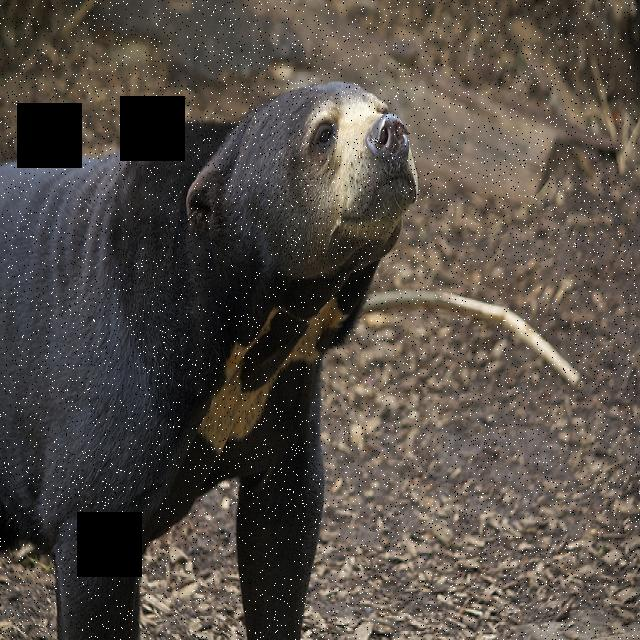Bear: (0, 67, 430, 636)
